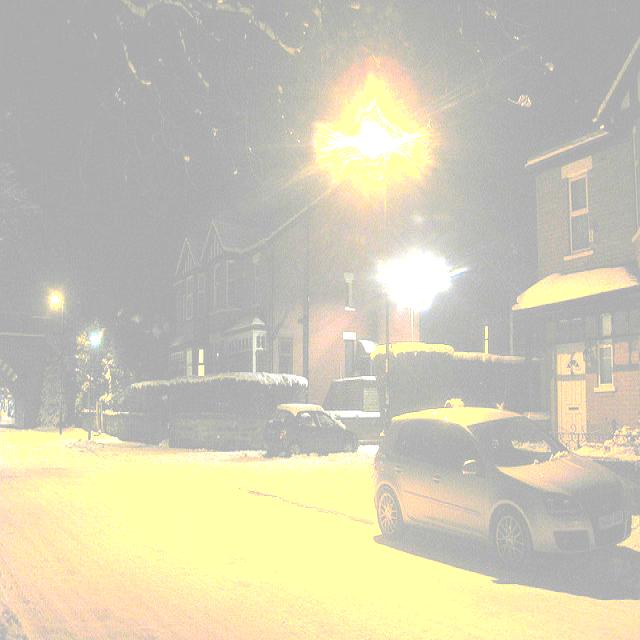Car: (375, 410, 631, 569)
